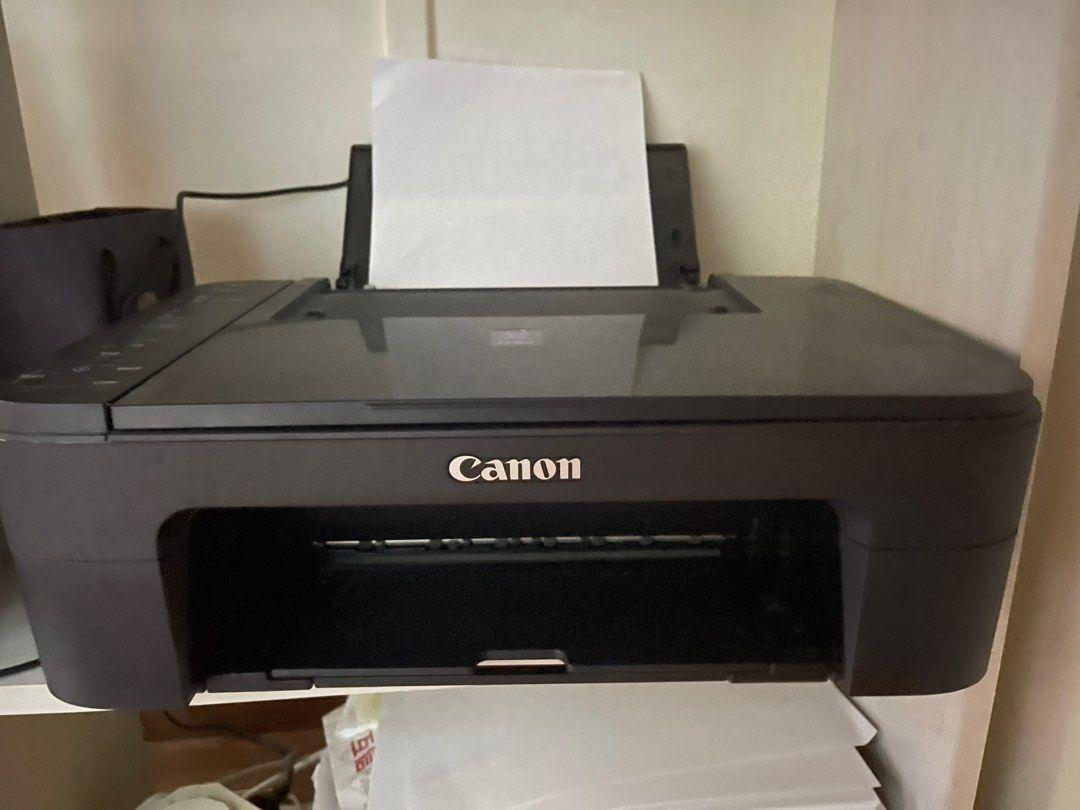Printer: (1, 57, 1044, 709)
